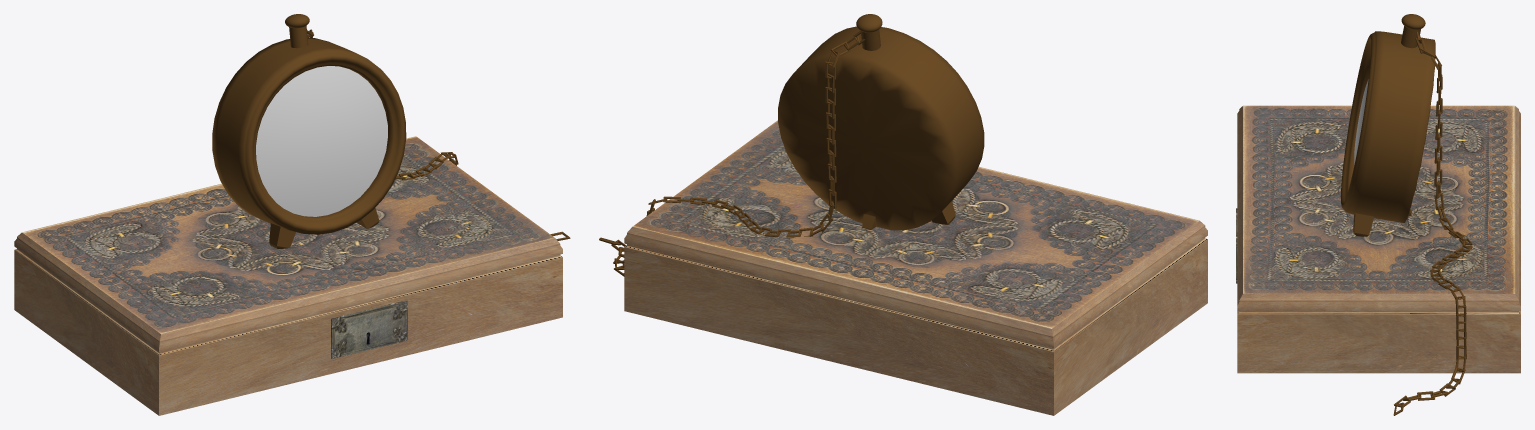
The model's file is Props_watch_box_01.fbx.
The picture shows the model from 3 angles, left to right: view 1: azimuth 30°, elevation 25°; view 2: azimuth 150°, elevation 25°; view 3: azimuth 270°, elevation 25°; orthographic projection. The views are drawn at different scales.
Parts seen in each view (by area): view 1: Box038.001, Box038, Cylinder020.001, Object001, Plane.002, Rectangle001; view 2: Box038, Box038.001, Cylinder020.001, Rectangle001; view 3: Box038.001, Box038, Cylinder020.001, Rectangle001, Object001.
Part boxes in pixels (x1=…): Box038.001: x1=22, y1=136, x2=554, y2=334; Box038: x1=14, y1=232, x2=562, y2=415; Cylinder020.001: x1=212, y1=14, x2=406, y2=248; Object001: x1=256, y1=66, x2=387, y2=216; Plane.002: x1=331, y1=300, x2=407, y2=358; Rectangle001: x1=307, y1=29, x2=570, y2=240; Box038: x1=624, y1=221, x2=1207, y2=415; Box038.001: x1=633, y1=120, x2=1199, y2=328; Cylinder020.001: x1=778, y1=14, x2=984, y2=230; Rectangle001: x1=599, y1=31, x2=865, y2=276; Box038.001: x1=1243, y1=105, x2=1515, y2=293; Box038: x1=1237, y1=106, x2=1520, y2=373; Cylinder020.001: x1=1340, y1=14, x2=1435, y2=236; Rectangle001: x1=1393, y1=31, x2=1472, y2=415; Object001: x1=1354, y1=79, x2=1368, y2=164.
Bounding box in the file's own units: 30.18 × 16.48 × 15.48.
